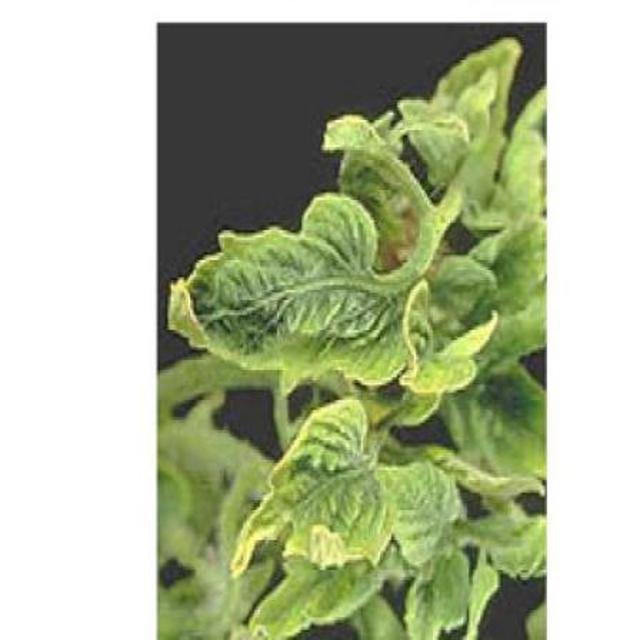Yellow Leaf Curl Virus: (236, 259, 439, 640)
